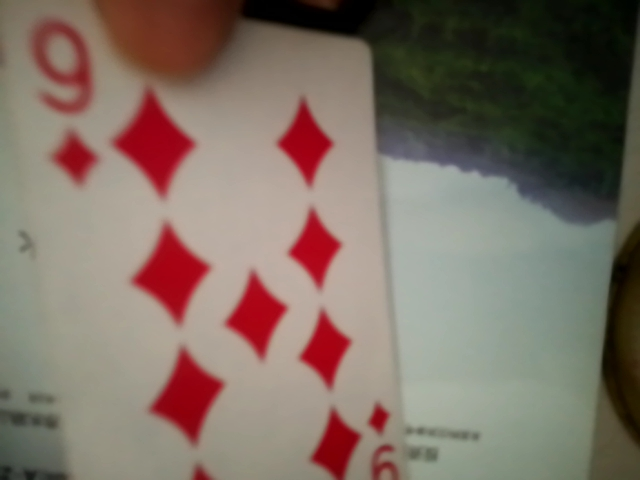fk 9: (5, 24, 427, 472)
